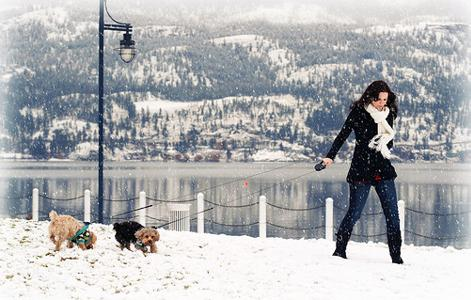person: (321, 81, 404, 264)
